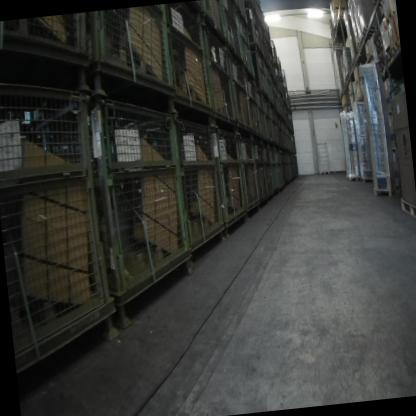pallet: (399, 196, 416, 223), (362, 22, 379, 41), (372, 185, 395, 199), (358, 32, 377, 47), (357, 41, 370, 54), (390, 39, 400, 55), (373, 35, 383, 50), (385, 47, 393, 63), (377, 56, 386, 70), (351, 55, 362, 64), (376, 50, 384, 62), (356, 94, 363, 103), (354, 79, 360, 87)
stillage: (32, 87, 207, 364), (0, 75, 125, 415), (79, 7, 174, 123), (171, 105, 226, 265), (0, 15, 96, 96), (159, 7, 214, 131), (213, 119, 252, 242), (202, 25, 239, 133), (236, 137, 265, 223), (228, 59, 252, 136), (218, 0, 242, 62), (199, 0, 229, 47), (235, 18, 257, 81), (242, 66, 260, 139), (250, 138, 268, 203), (251, 46, 269, 99), (259, 139, 274, 200), (251, 85, 267, 141), (244, 3, 261, 52), (271, 145, 285, 190), (267, 145, 280, 192), (268, 100, 280, 147), (263, 96, 274, 144), (263, 63, 275, 107), (232, 0, 249, 23)
